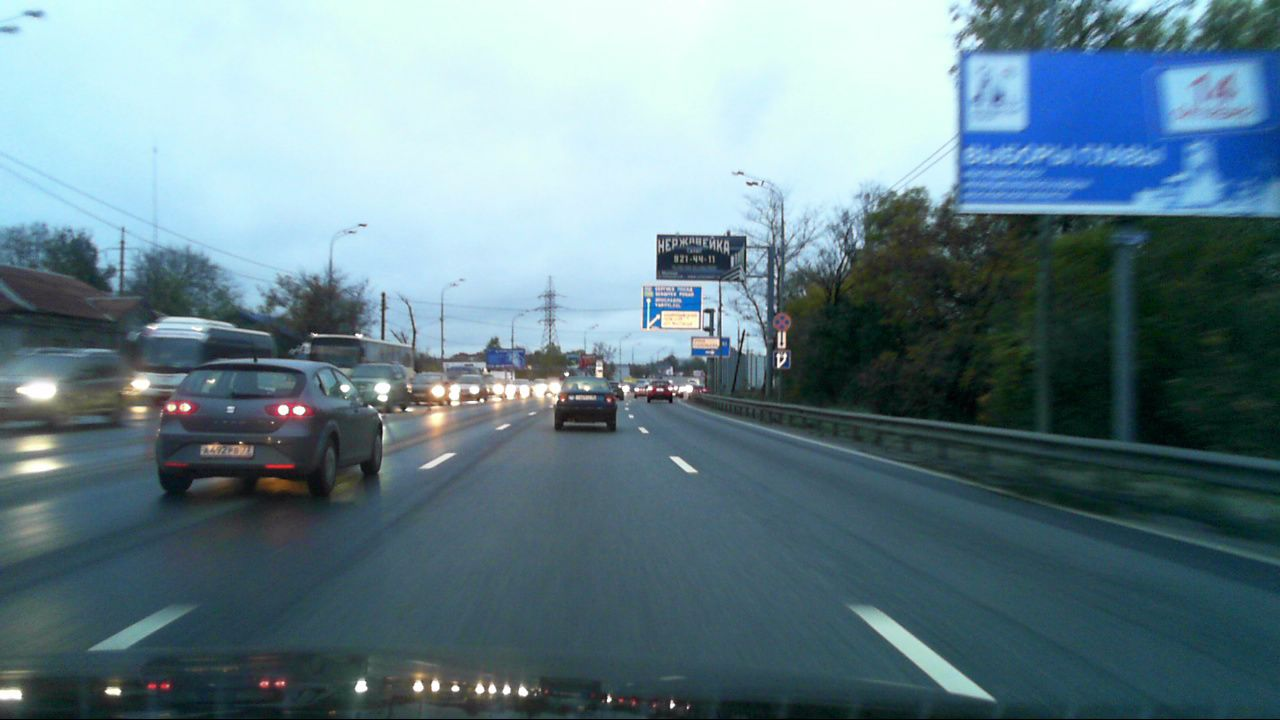No Parking: (772, 313, 790, 330)
